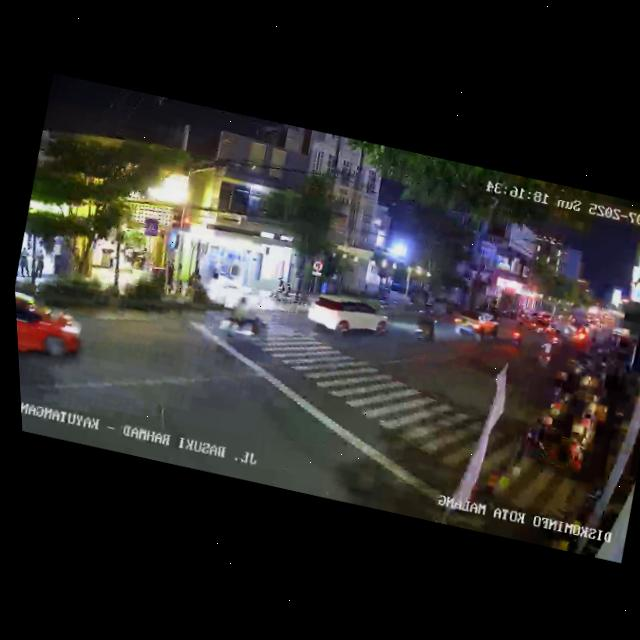car: (15, 286, 93, 373), (302, 287, 390, 348), (447, 303, 502, 346)
motorcycle: (214, 293, 275, 349), (409, 301, 443, 345), (532, 336, 557, 372), (507, 322, 527, 348)
person: (15, 246, 36, 280), (31, 249, 49, 280)
